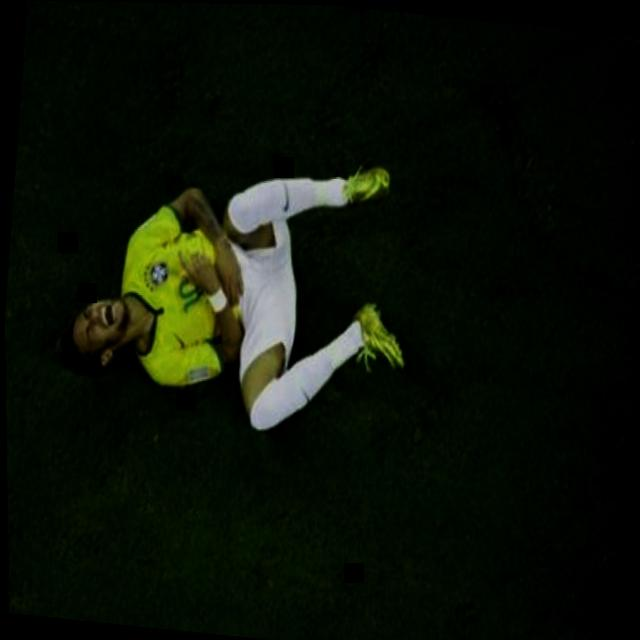Fall-Detected: (33, 100, 428, 447)
